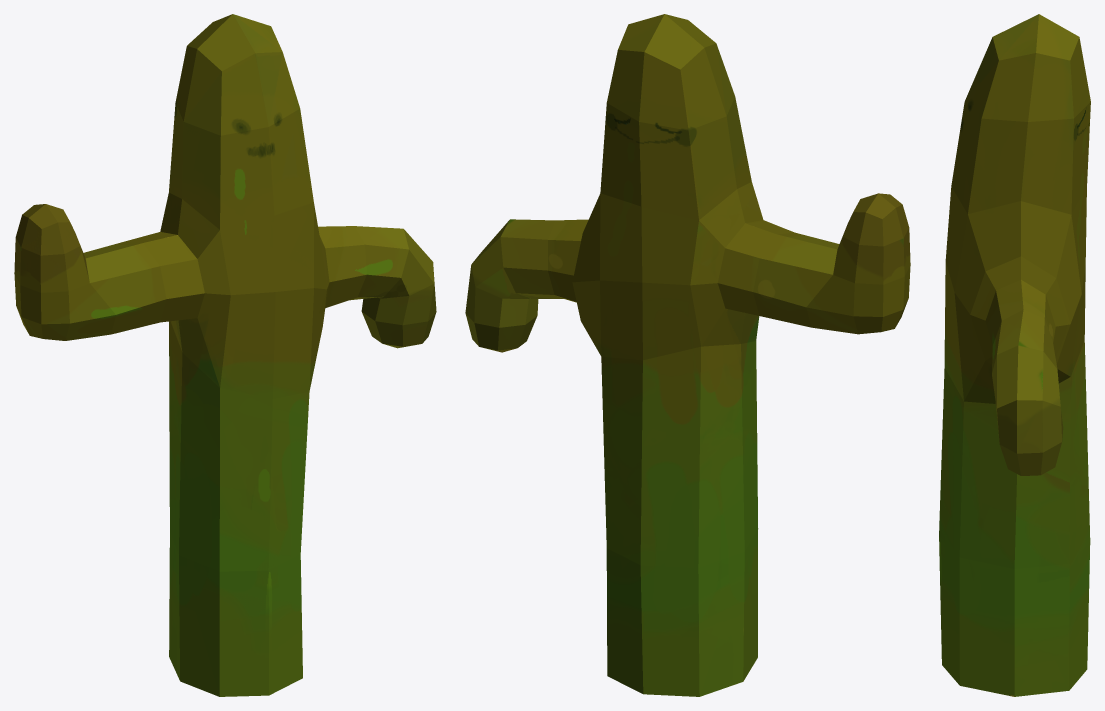
File: FLORAcactus.fbx
3 views of the same model, side by side, from view 1: azimuth 30°, elevation 25°; view 2: azimuth 150°, elevation 25°; view 3: azimuth 270°, elevation 25° (orthographic). The views are drawn at different scales.
Parts seen in each view (by area): view 1: FLORAcactus; view 2: FLORAcactus; view 3: FLORAcactus.
Boxes of the visible parts, x1=… form: FLORAcactus: x1=14, y1=14, x2=436, y2=696; FLORAcactus: x1=465, y1=14, x2=910, y2=696; FLORAcactus: x1=939, y1=14, x2=1090, y2=696.
Size of the model in its own units: 1.49 by 4.8 by 7.11.
Materials: 1 (1 with a texture image).
